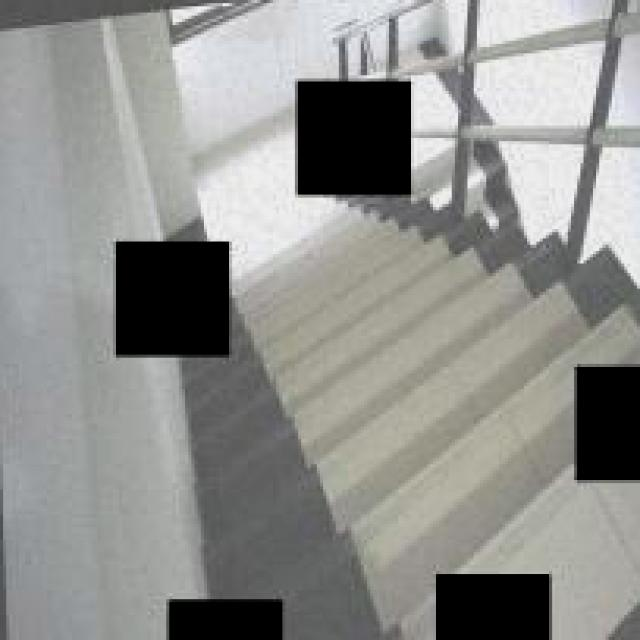downstair: (268, 274, 541, 547)
